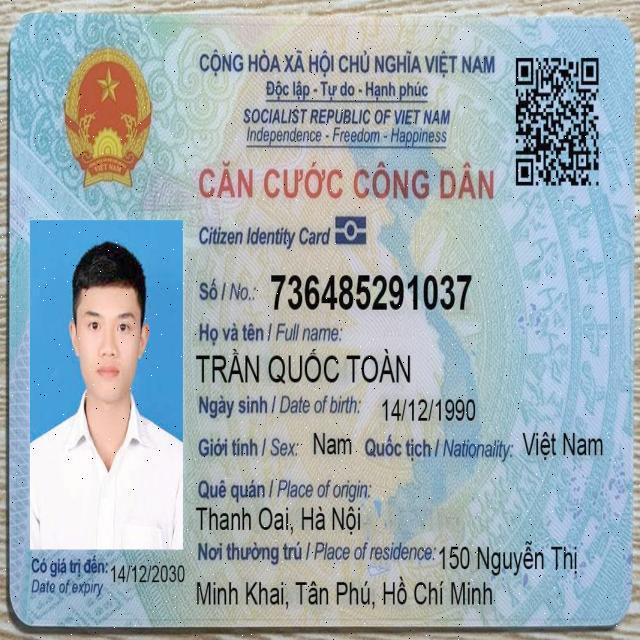current_place: (193, 571, 496, 620), (436, 536, 582, 579)
dob: (378, 389, 479, 427)
expire_date: (108, 556, 187, 588)
gender: (310, 425, 354, 462)
id: (267, 267, 475, 315)
name: (192, 344, 415, 391)
nationality: (521, 426, 606, 467)
origin_place: (192, 498, 365, 538)
